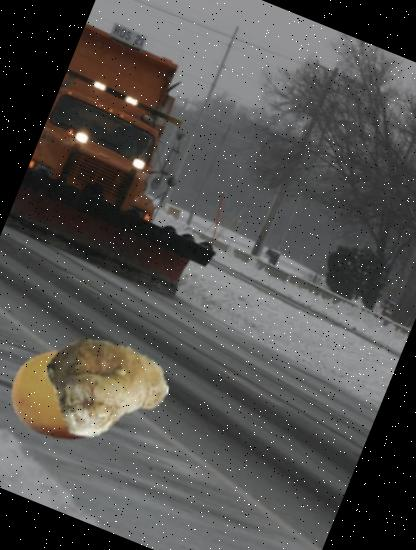Ginger: (26, 310, 186, 469)
Lemon: (0, 325, 132, 464)
